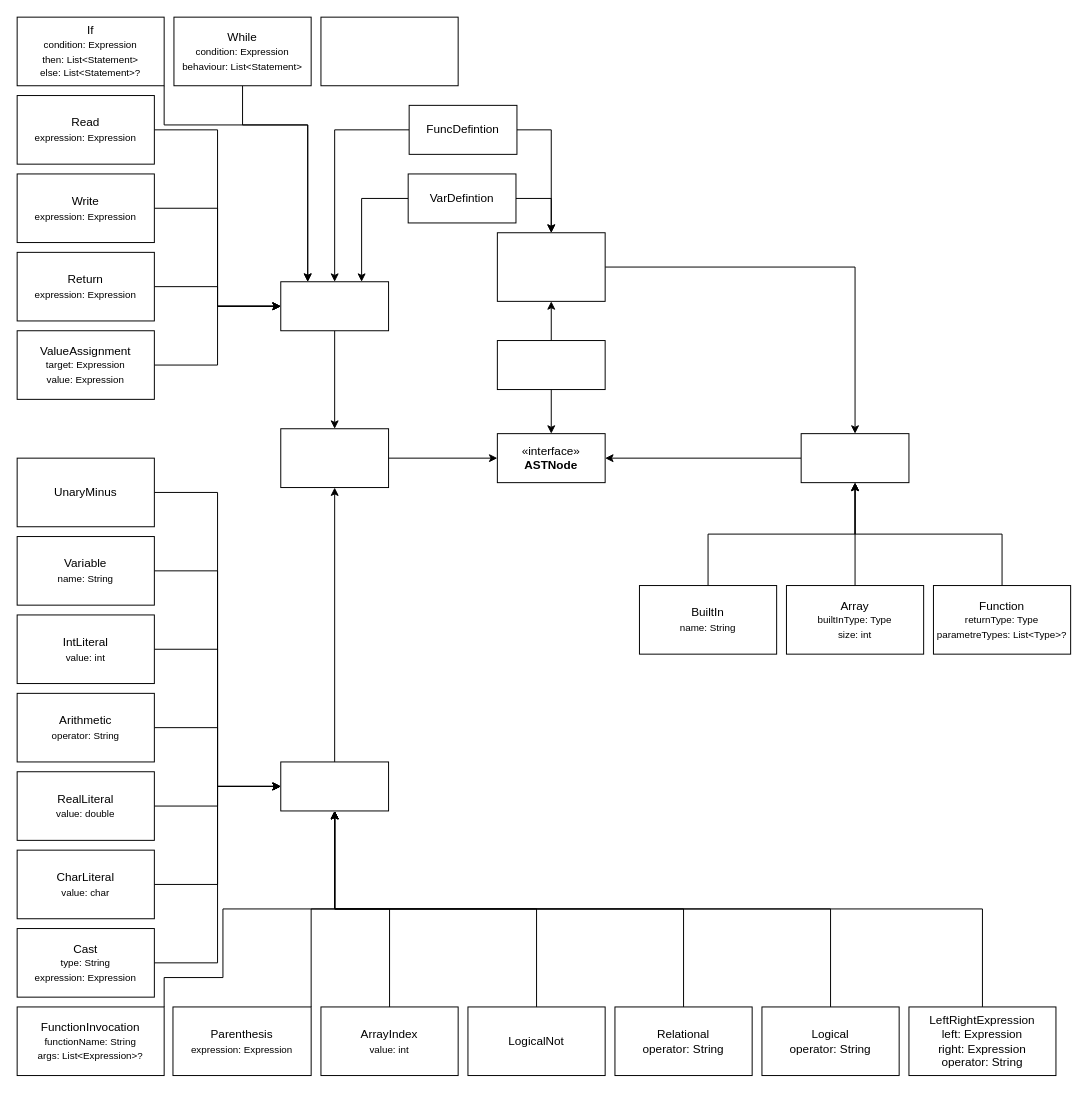
Image size: 1088x1093. Some labels were removed from this diagram. The box of each missing label's shape, as (x1, y1, x2, y2) in pixels:
ProcedureInvocation functionName: String args: List<Expression>?: (320, 16, 458, 86)
Program: (496, 340, 605, 390)
«interface» Defintion getType(): Type getName(): String: (496, 232, 605, 301)
«interface» Expression: (280, 761, 389, 811)
«interface» Locatable getLine():int getColmn():int: (280, 428, 389, 488)
«interface» Statement: (280, 281, 389, 331)
«interface» Type: (800, 433, 909, 483)
